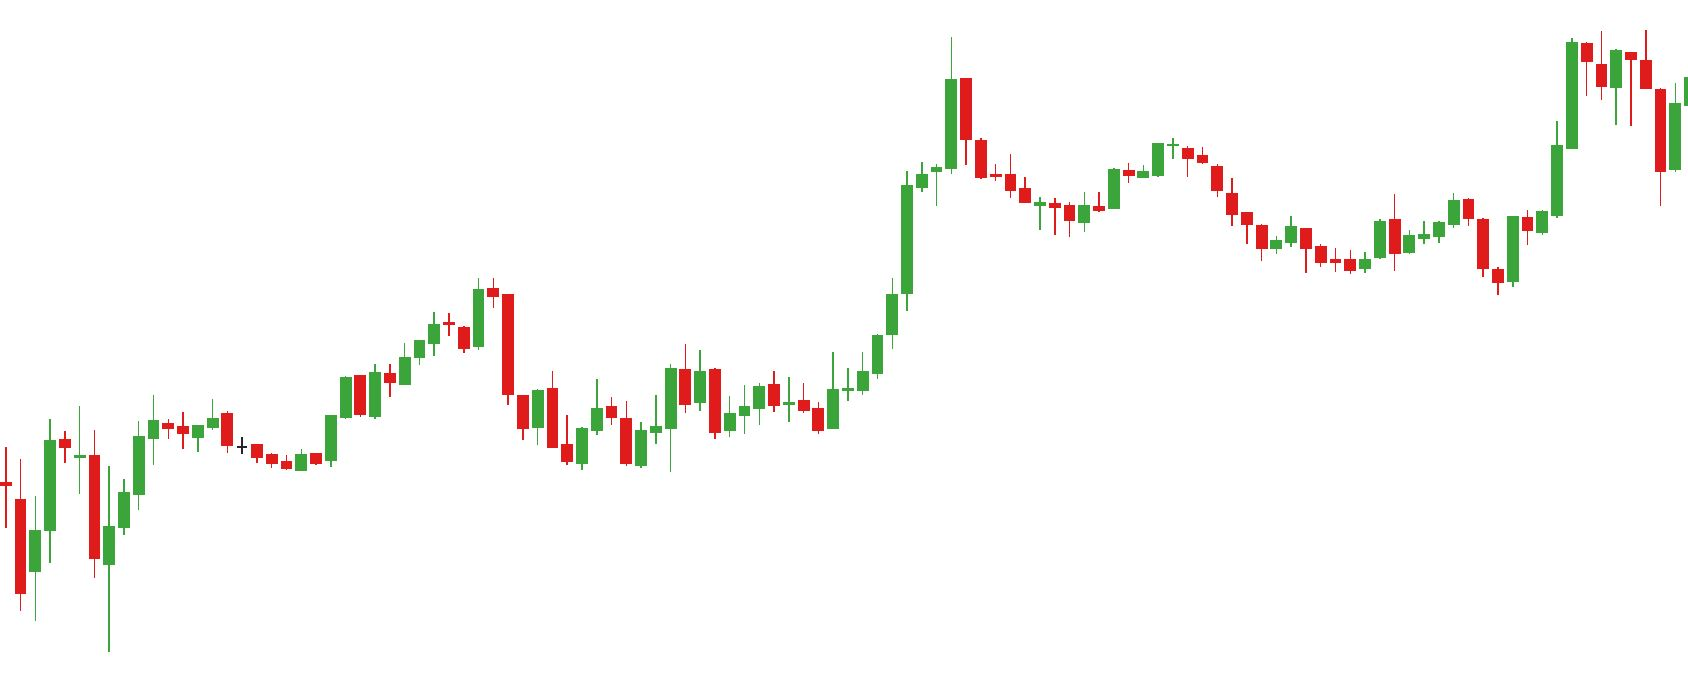buy: (13, 454, 117, 654), (1385, 211, 1522, 299)
